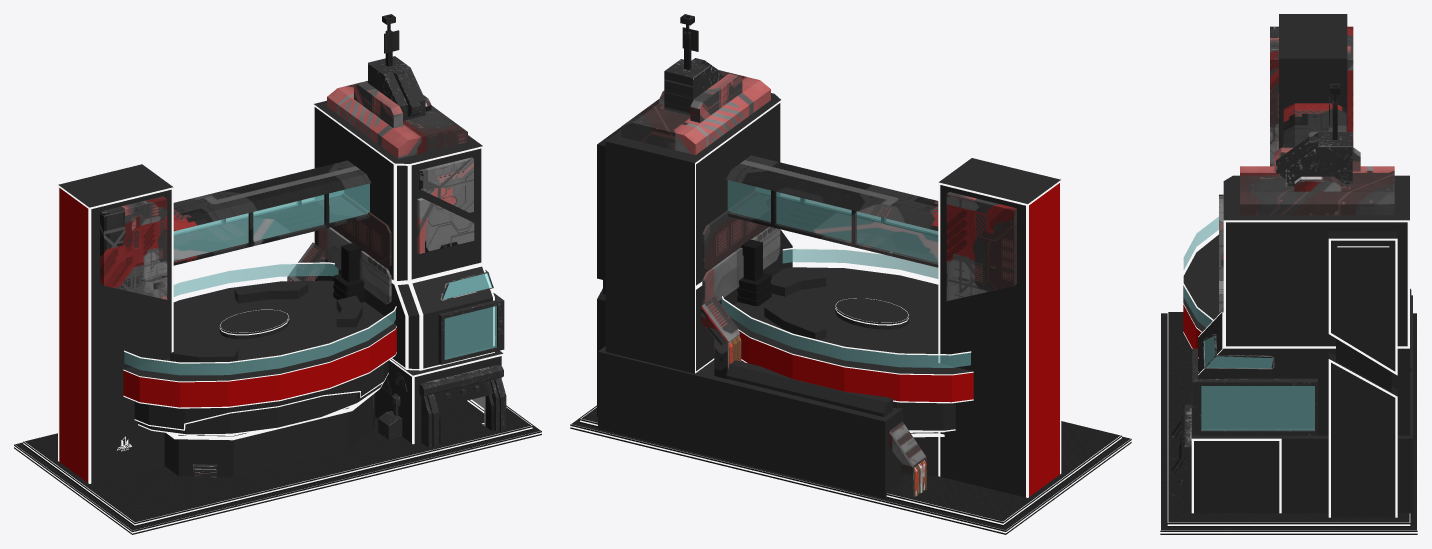
The model's file is Dhingia Builds 16 Size 2x1.glb.
The picture shows the model from 3 angles, left to right: view 1: azimuth 30°, elevation 25°; view 2: azimuth 150°, elevation 25°; view 3: azimuth 270°, elevation 25°; orthographic projection. The views are drawn at different scales.
Parts seen in each view (by area): view 1: Object035, Object035.004, Extra Objects, Plane, Glass, Gate, Object035.003; view 2: Object035, Extra Objects, Object035.004, Plane, Glass, Object035.005; view 3: Object035, Extra Objects, Plane, Object035.004, Gate, Glass.
Boxes of the visible parts, box(x1,y1,x2,y2) form: Object035: box(58, 100, 504, 483); Object035.004: box(123, 280, 396, 476); Extra Objects: box(100, 14, 474, 478); Plane: box(14, 400, 541, 534); Glass: box(124, 262, 396, 375); Gate: box(419, 364, 506, 447); Object035.003: box(166, 389, 379, 440); Object035: box(597, 93, 1061, 498); Extra Objects: box(621, 14, 1016, 416); Object035.004: box(726, 267, 973, 431); Plane: box(570, 405, 1131, 534); Glass: box(721, 247, 971, 367); Object035.005: box(910, 432, 938, 476); Object035: box(1191, 14, 1412, 517); Extra Objects: box(1219, 26, 1411, 371); Plane: box(1160, 311, 1417, 534); Object035.004: box(1183, 234, 1220, 372); Gate: box(1171, 404, 1191, 510); Glass: box(1182, 215, 1218, 327).
Size of what is drawn, in the model's own units: 32 by 28.15 by 16.
7 materials, 2 textured.
